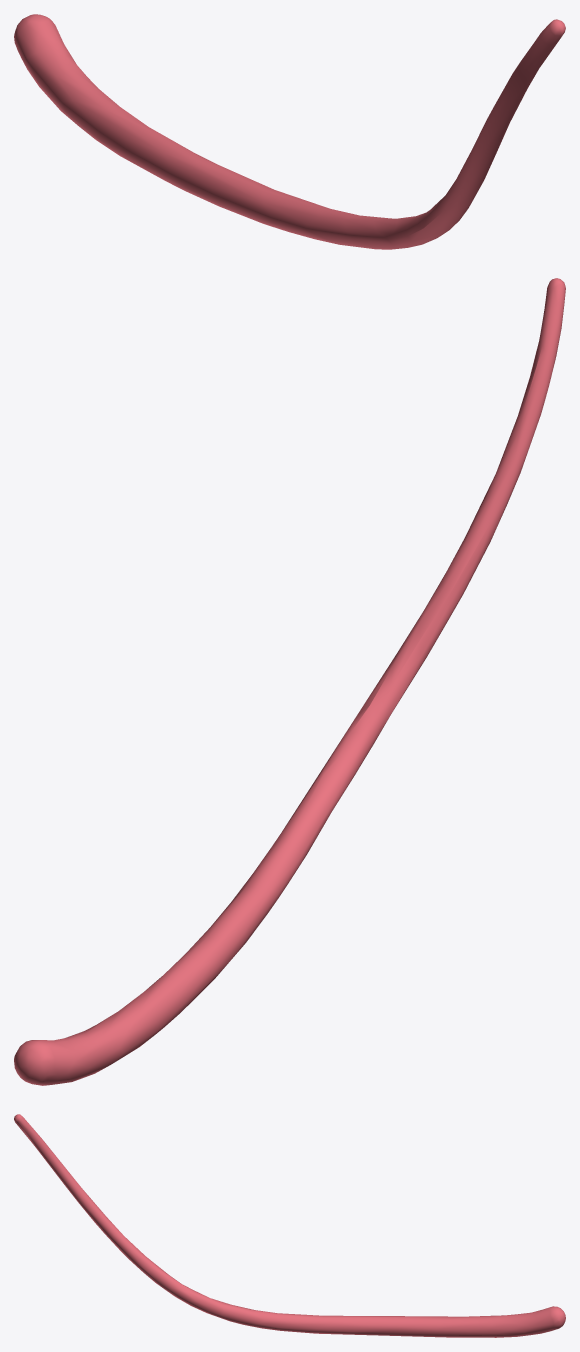
File: fma50443_fj1686.glb
3 views of the same model, one above another, from view 1: azimuth 30°, elevation 25°; view 2: azimuth 150°, elevation 25°; view 3: azimuth 270°, elevation 25° (orthographic). The views are drawn at different scales.
Parts seen in each view (by area): view 1: FMA50443_FJ1686; view 2: FMA50443_FJ1686; view 3: FMA50443_FJ1686.
Boxes of the visible parts, x1,y1,x2,y2 form: FMA50443_FJ1686: (14,14,565,249); FMA50443_FJ1686: (14,278,565,1085); FMA50443_FJ1686: (14,1114,565,1337).
Size of the model in its own units: 0.00223 by 0.0126 by 0.0279.
